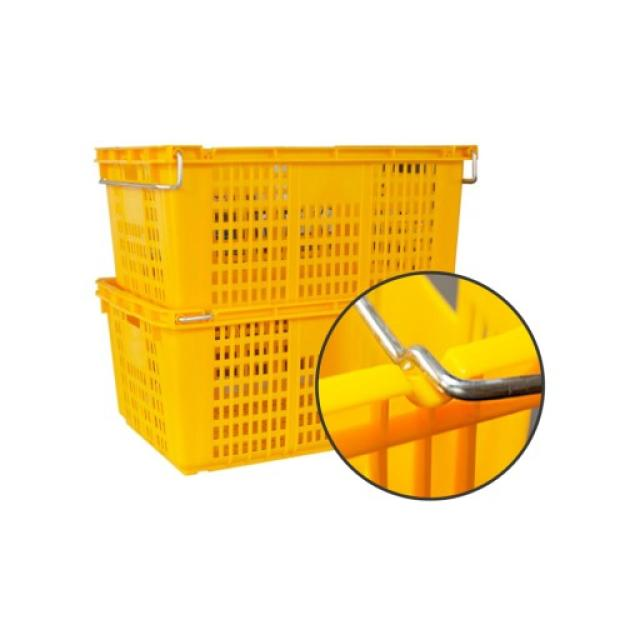basket: (96, 145, 478, 312), (82, 278, 344, 487)
